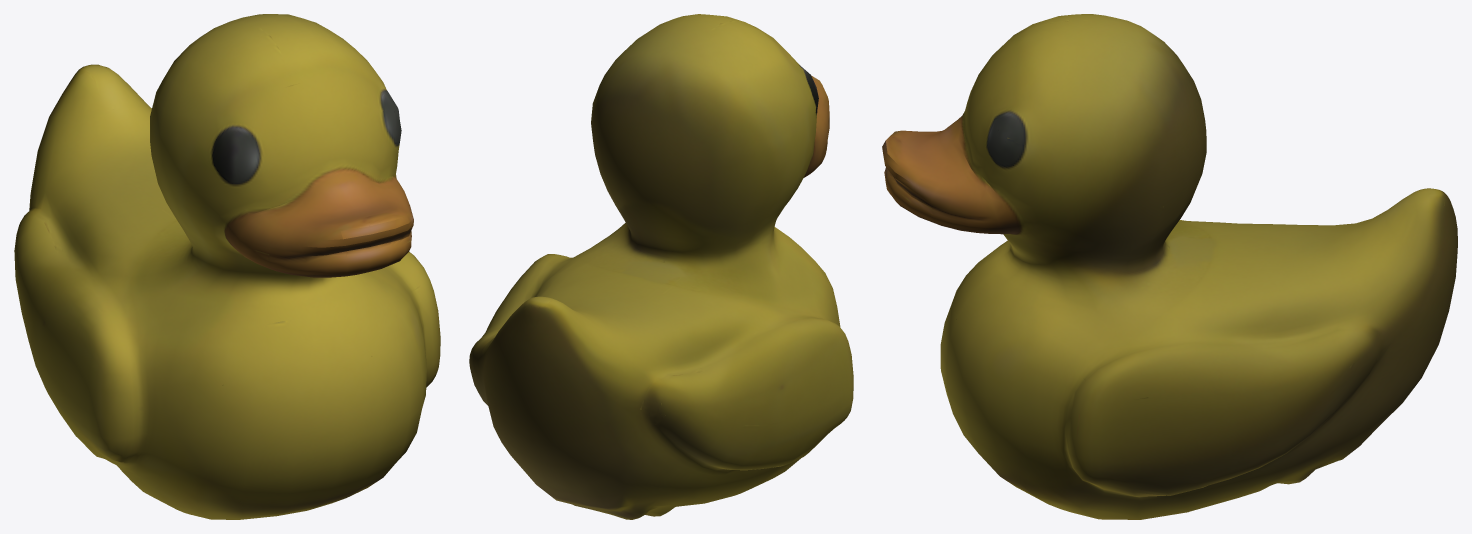
The model's file is utka_default_fixed.glb.
The picture shows the model from 3 angles, left to right: view 1: azimuth 30°, elevation 25°; view 2: azimuth 150°, elevation 25°; view 3: azimuth 270°, elevation 25°; orthographic projection. The views are drawn at different scales.
Visible parts, largest first — view 1: Mesh0; view 2: Mesh0; view 3: Mesh0.
Part boxes in pixels (bbox=[...]): Mesh0: bbox=[14, 14, 440, 519]; Mesh0: bbox=[469, 14, 853, 519]; Mesh0: bbox=[882, 14, 1457, 519].
Size of the model in its own units: 1.27 by 1.68 by 1.91.
Materials: 1 (1 with a texture image).
